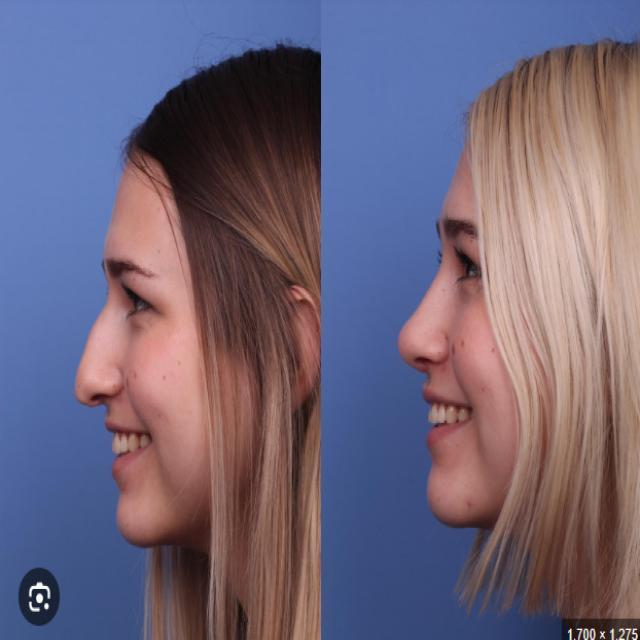face_no_mask: (72, 124, 323, 555), (395, 104, 546, 534)
